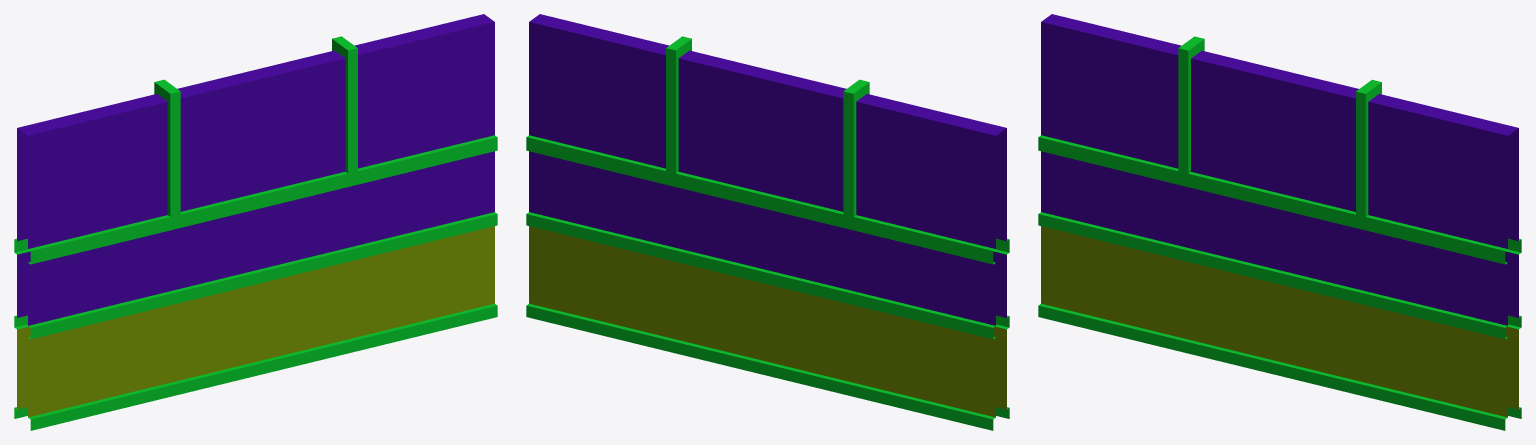
Rendered from ModelTavernLokiArchitectureWall.FBX.
3 views of the same model, side by side, from view 1: azimuth 30°, elevation 25°; view 2: azimuth 150°, elevation 25°; view 3: azimuth 330°, elevation 25° (orthographic).
Parts seen in each view (by area): view 1: Mur; view 2: Mur; view 3: Mur.
Boxes of the visible parts, x1,y1,x2,y2 form: Mur: (14, 14, 497, 430); Mur: (526, 14, 1009, 430); Mur: (1038, 14, 1521, 430).
Bounding box in the file's own units: 500 × 310 × 30.
